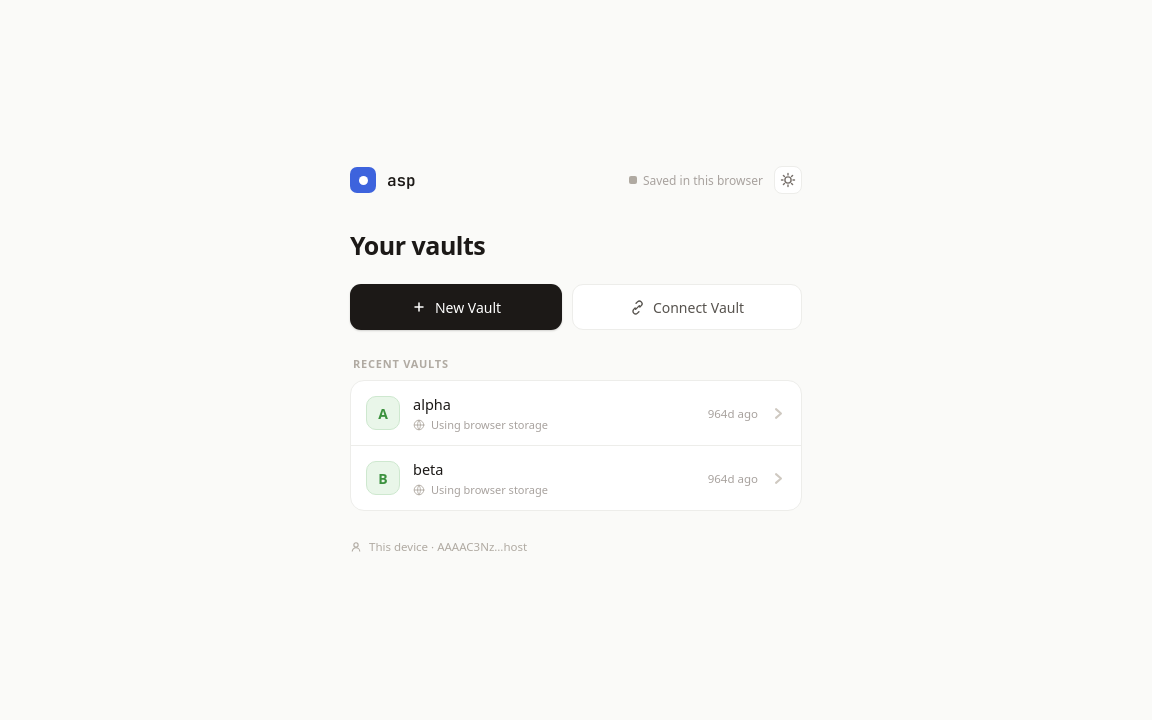
Test: App — tabs + URL hash (desktop) › closing the last tab clears the selection and blanks the hash
The image size is (1152, 720).
Click the text "alpha".
click(432, 404)  # box 413,394 -> 451,414
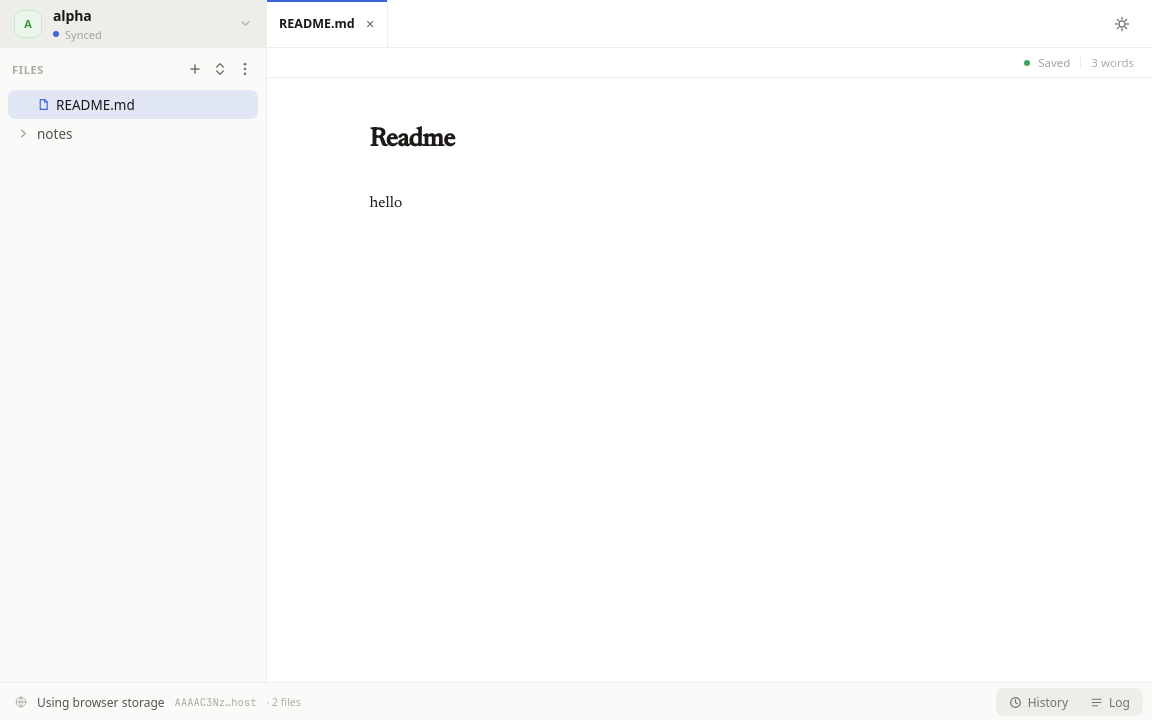
Now the text box with test id "live-editor" is shown, box 370,127 -> 454,211
Click the button with test id "tab-close".
click(370, 24)  # box 362,15 -> 379,32
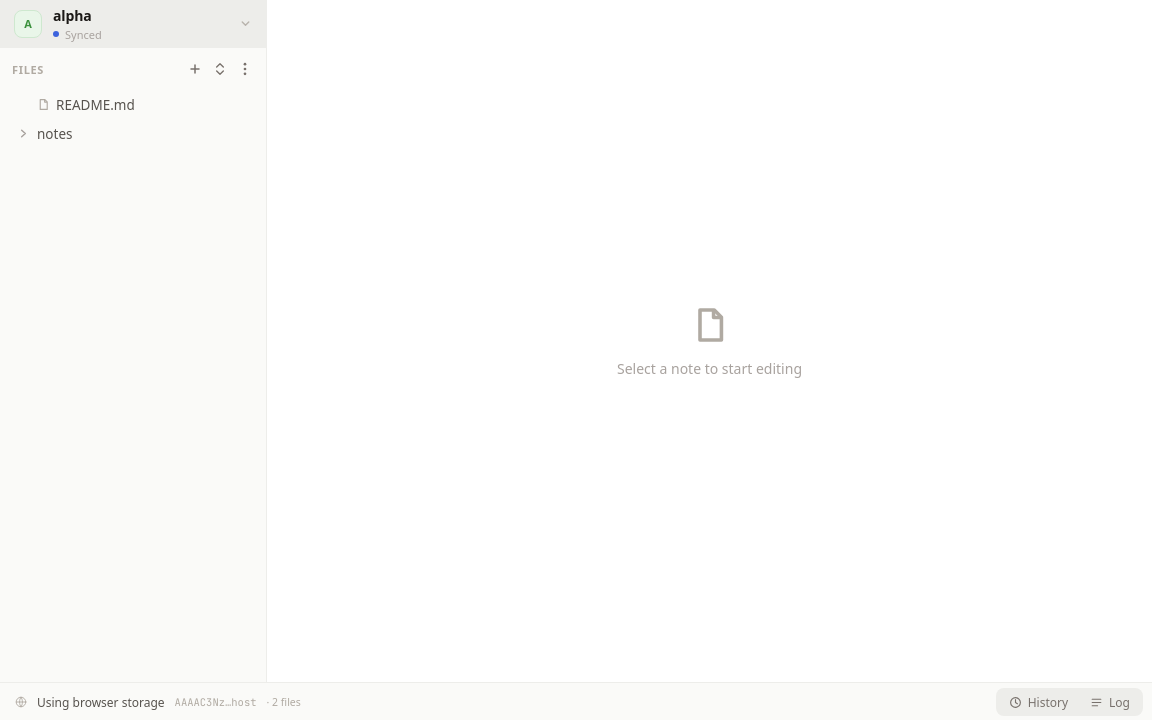
Now the text "Select a note to start editing" is shown, box 617,358 -> 802,378
Now the element with test id "tab-bar" is gone
